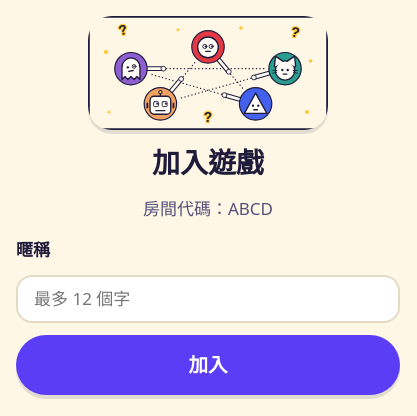
join form › saves the token, authenticates, and shows the waiting screen on success
Later steps or results of the test are not shown.
Type "小明" into the field labelled "暱稱" at (208, 299), box [16,275,400,323]
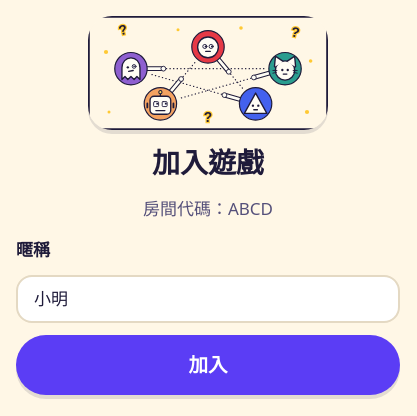
Click the button "加入" at (208, 365), box [16,335,400,395]
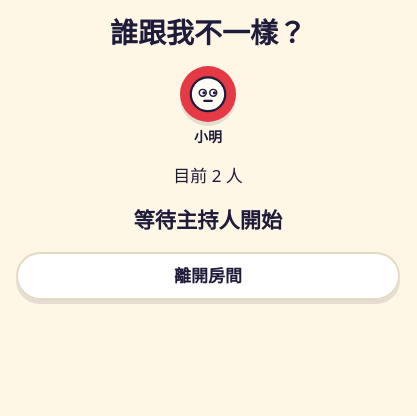
Now the text "等待主持人開始" is shown, box [134,204,282,236]
Now the label labelled "暱稱" is gone
